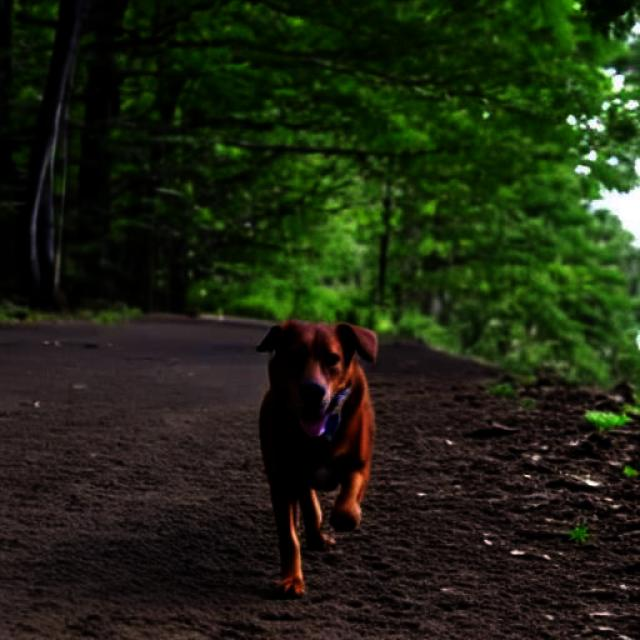Dog: (258, 320, 378, 596)
